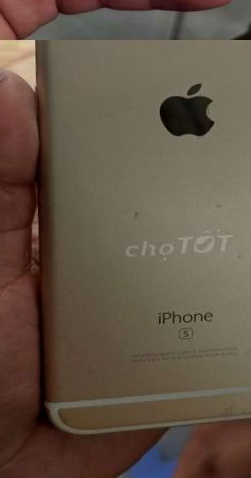scratch: (197, 371, 251, 422)
